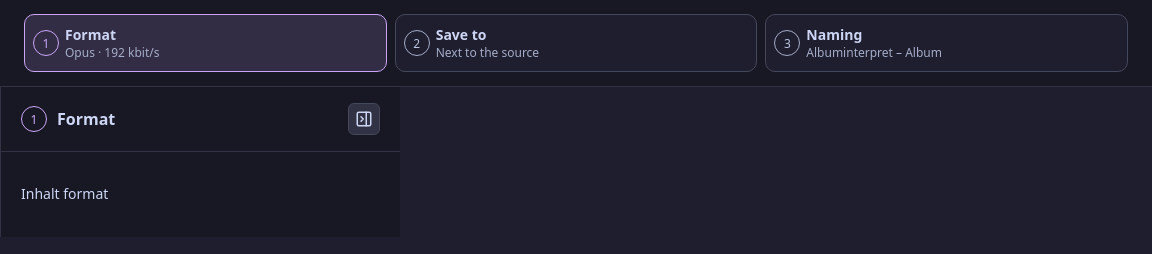
Test: StepTiles › click_opens_panel_with_that_tile
Click the button "3 Naming Albuminterpret – Album" at (834,34), box [765,14,1128,72]
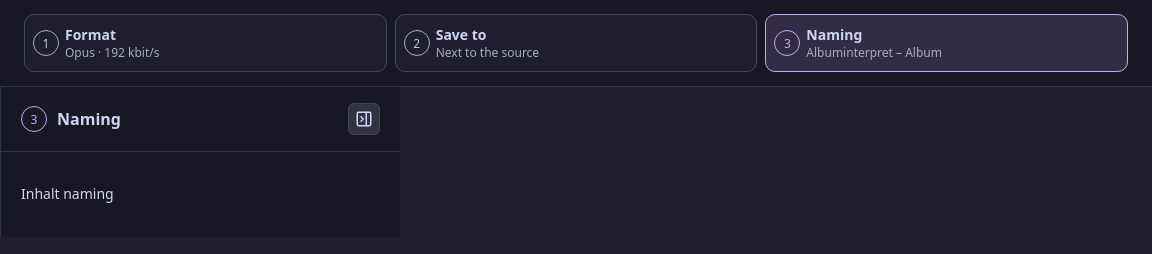
Expected: the text "Inhalt naming" is shown, [21,184,114,204]
